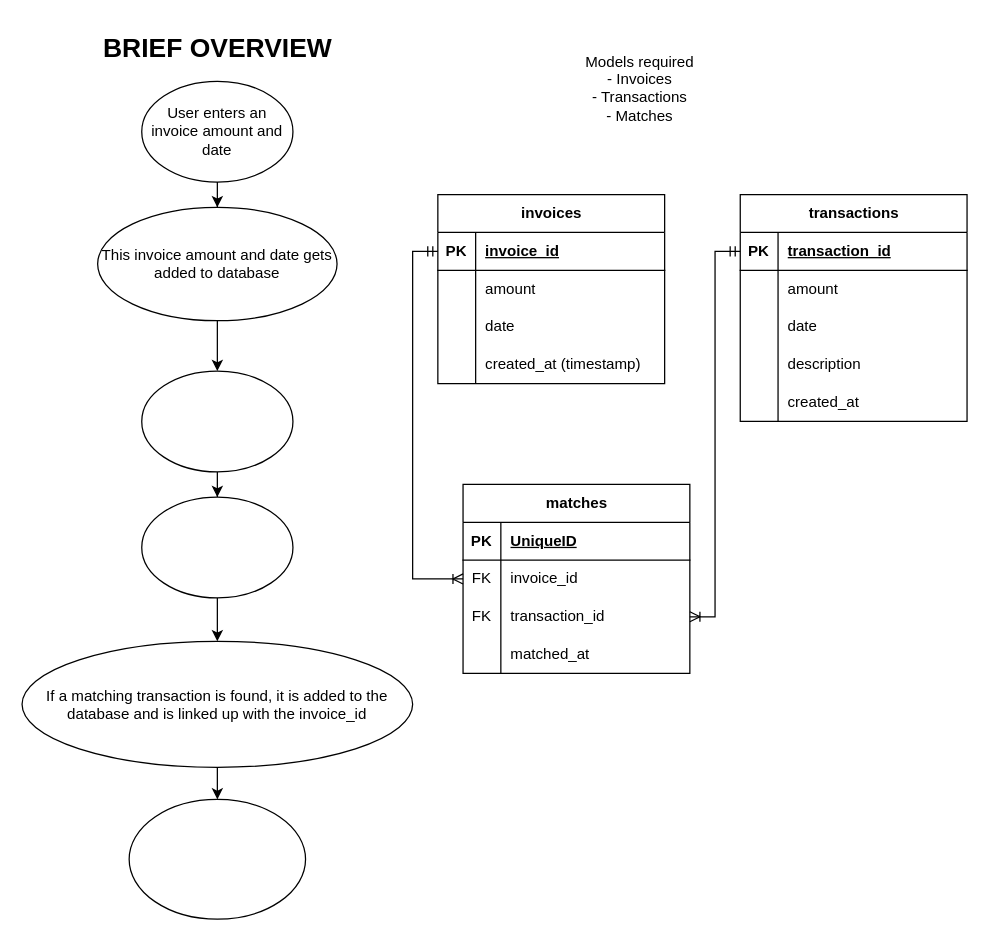
Some shapes in this 989 by 941 pixel diagram are drawn without their labels. Here are the shapes that lost their labels. From the top down, the box of each, then its label:
(140, 370, 293, 472): The app scans Up Bank for a matching transaction
(140, 496, 293, 598): App uses Up Bank API and scans all transactions
(128, 798, 306, 919): An email is sent to the user that the invoices are matched
